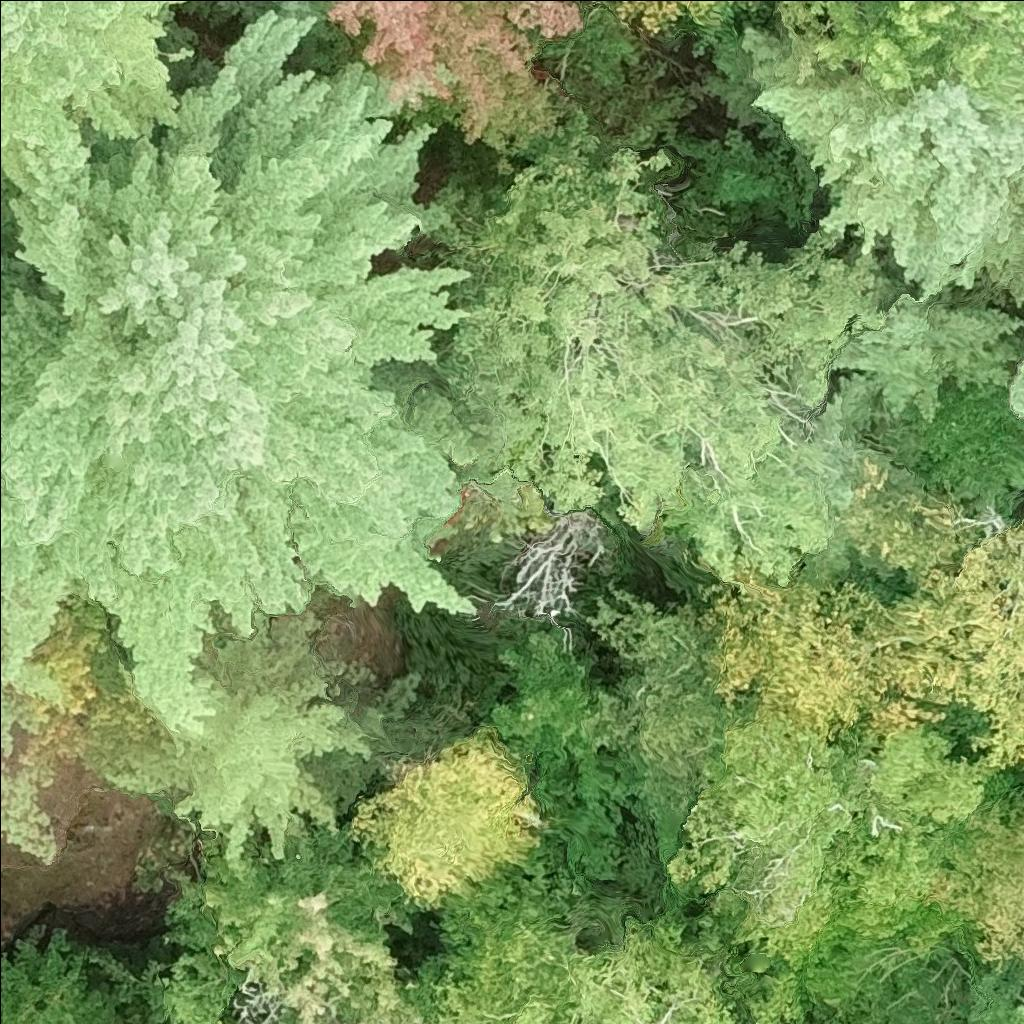crown: (0, 13, 471, 743), (412, 156, 884, 580), (662, 700, 995, 970), (747, 34, 1023, 302), (108, 608, 375, 871), (821, 527, 1023, 766), (709, 576, 947, 734), (203, 857, 428, 1023), (2, 580, 188, 776), (0, 0, 186, 190), (338, 0, 583, 140), (353, 727, 541, 909), (435, 921, 730, 1023), (782, 0, 1023, 109), (832, 299, 1023, 418), (492, 504, 606, 622), (0, 585, 63, 740), (977, 851, 1023, 962), (948, 957, 1023, 1023), (779, 0, 883, 40), (871, 1012, 926, 1023), (1009, 375, 1023, 411), (211, 1020, 226, 1023)
